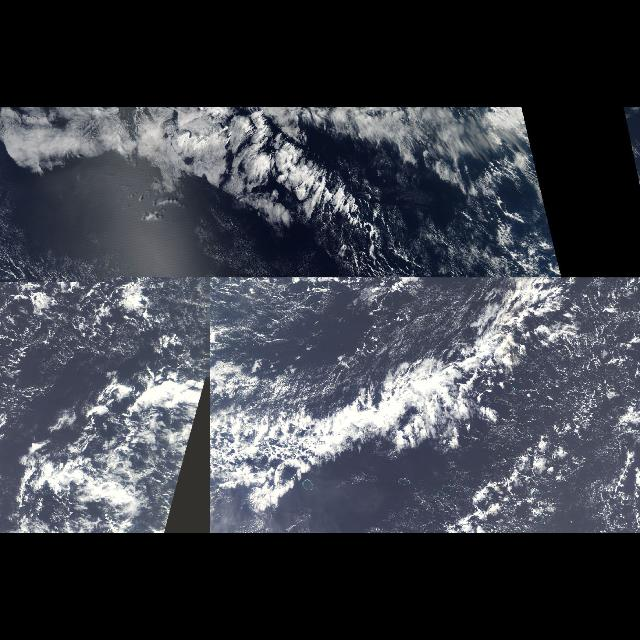Fish: (281, 283, 583, 491), (114, 118, 408, 255)
